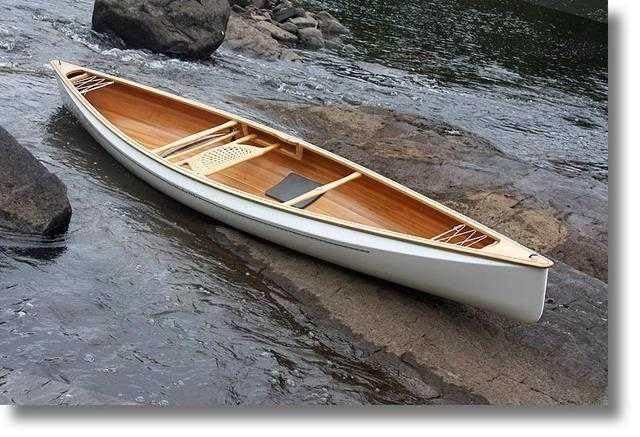kayak: (46, 58, 555, 324), (0, 125, 73, 242), (92, 0, 232, 60)
